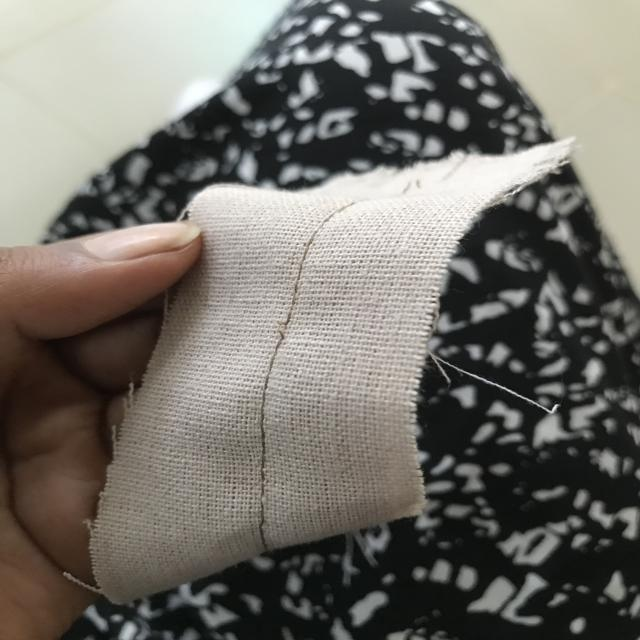broken: (265, 310, 302, 347)
